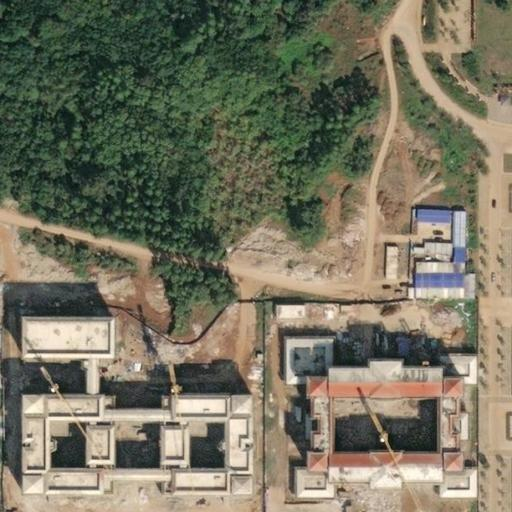building: (272, 331, 468, 496), (10, 392, 239, 496), (9, 314, 100, 393), (383, 242, 398, 280), (262, 300, 295, 317), (440, 211, 455, 244), (407, 209, 438, 223), (452, 272, 465, 298), (443, 244, 454, 260), (442, 286, 452, 297)
